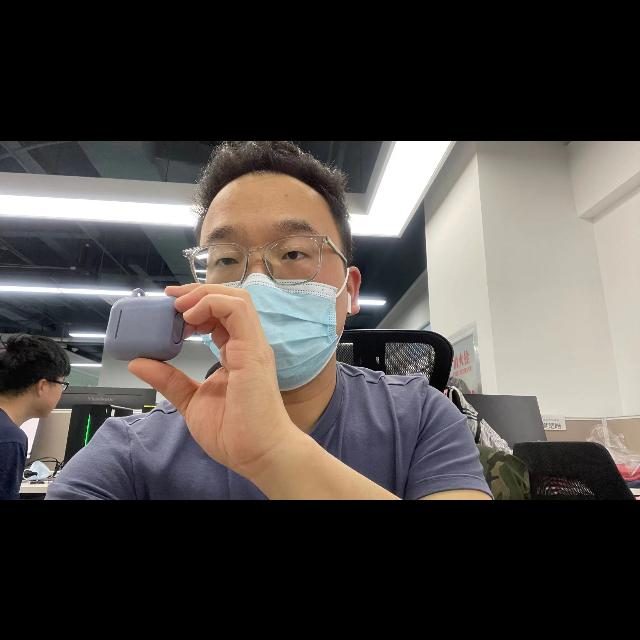airpods: (102, 289, 187, 361)
